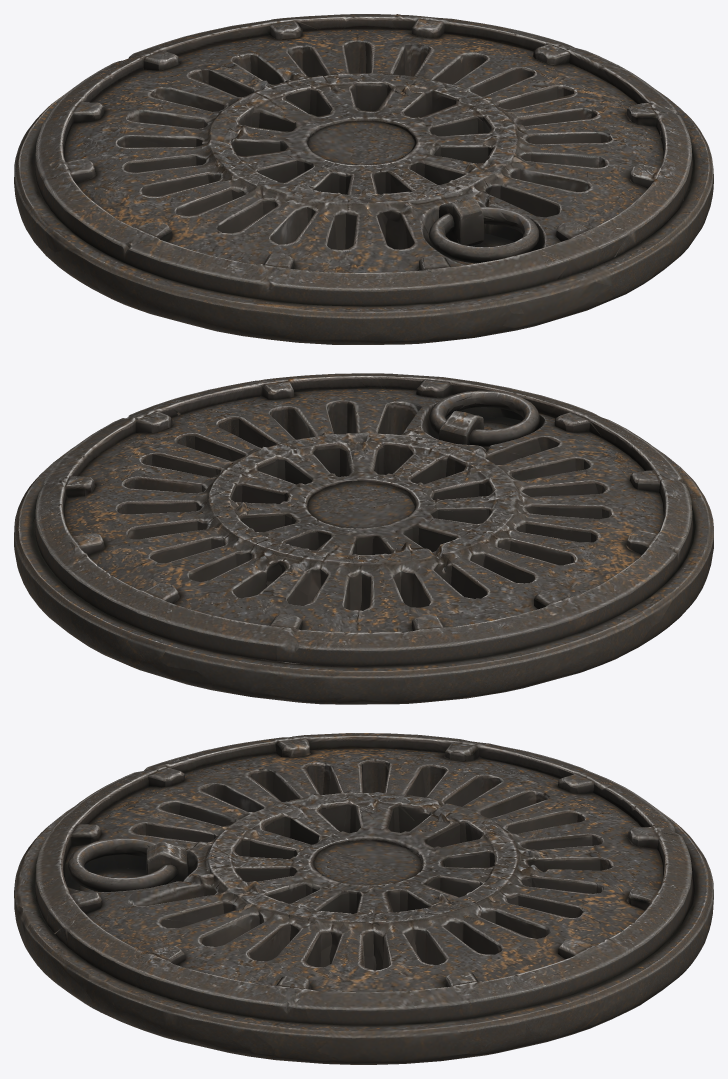
Rendered from manhole_cover.glb.
3 renders of one model, top to bottom at view 1: azimuth 30°, elevation 25°; view 2: azimuth 150°, elevation 25°; view 3: azimuth 270°, elevation 25°, orthographic.
Visible parts, largest first — view 1: Mesh_0; view 2: Mesh_0; view 3: Mesh_0.
Boxes of the visible parts, x1,y1,x2,y2 form: Mesh_0: (14, 14, 713, 344); Mesh_0: (14, 373, 713, 704); Mesh_0: (14, 733, 713, 1064).
Size of the model in its own units: 1.9 by 0.2239 by 1.9.
1 material, 1 textured.
